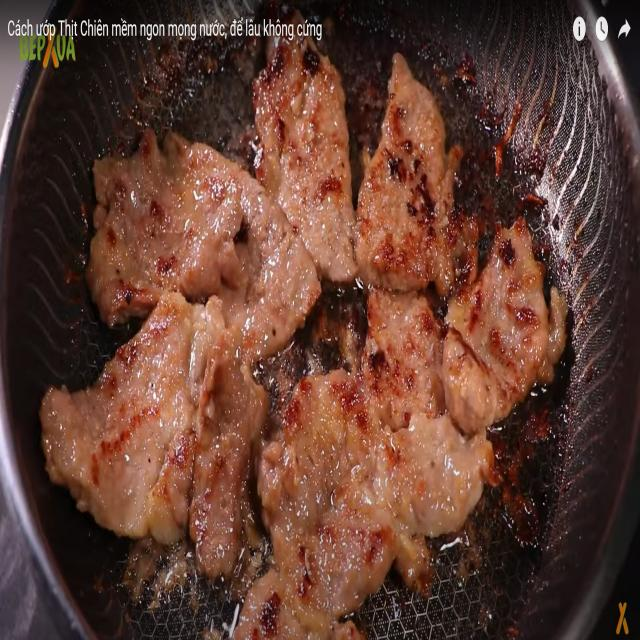thit chien: (40, 130, 320, 573), (257, 366, 493, 616), (253, 41, 357, 280), (355, 54, 457, 293), (440, 220, 552, 432), (361, 289, 444, 414)
